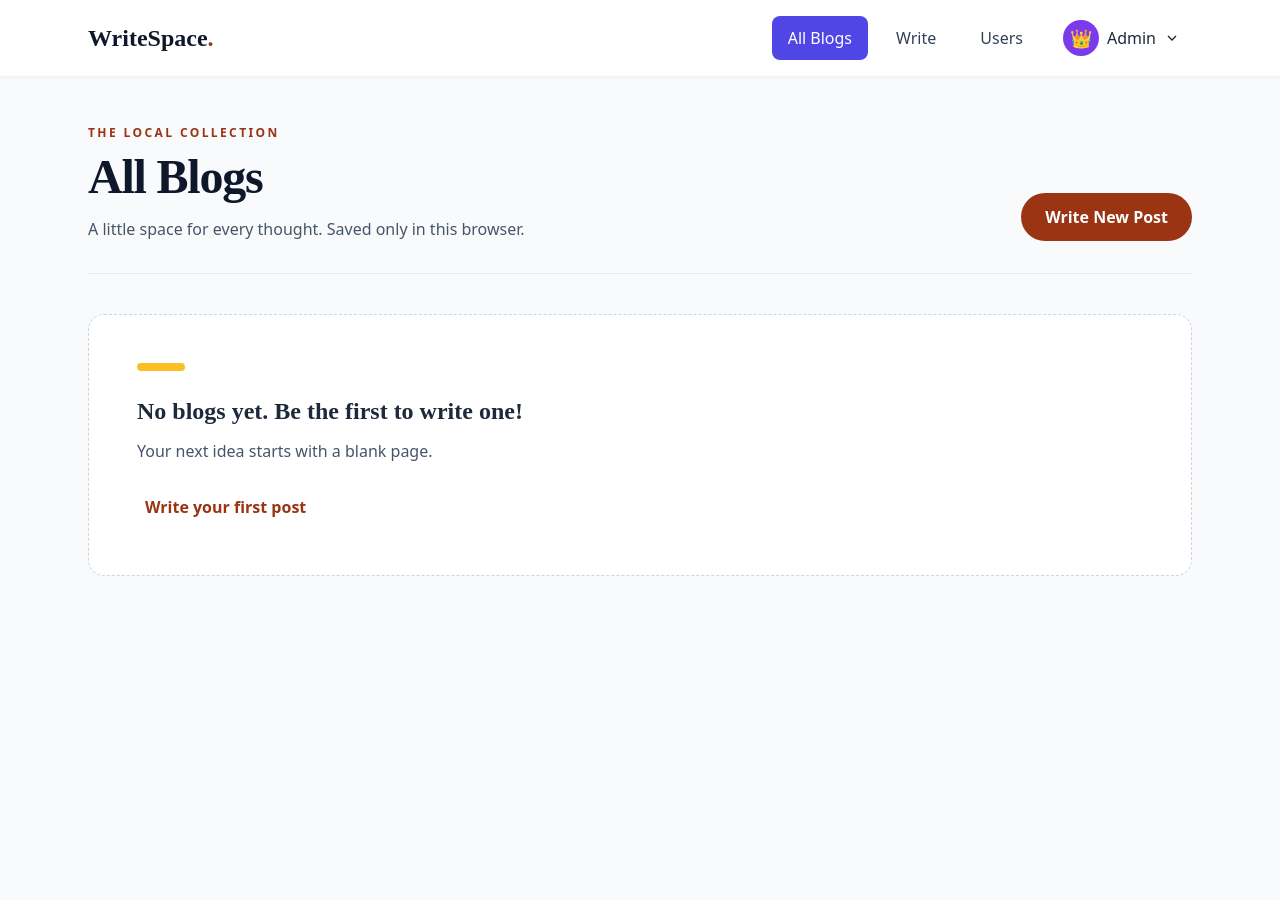
Test: shows empty collection and write CTA to admin
Expected: the heading "No blogs yet. Be the first to write one!" is shown, [137,398,523,424]
Click the link "Write your first post" at (226, 507), box [145,496,306,518]
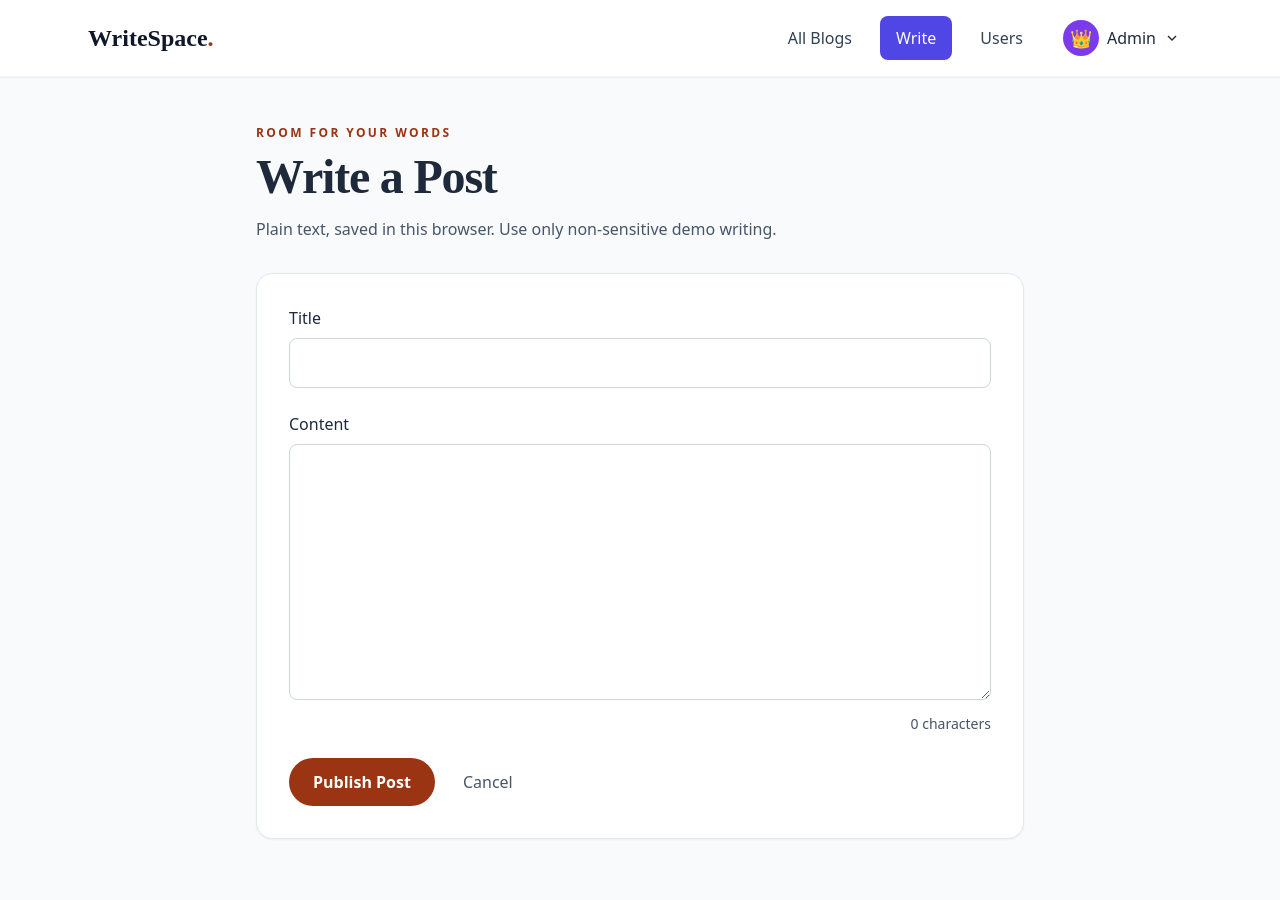
Expected: the heading "Write a Post" is shown, [256,150,497,203]
